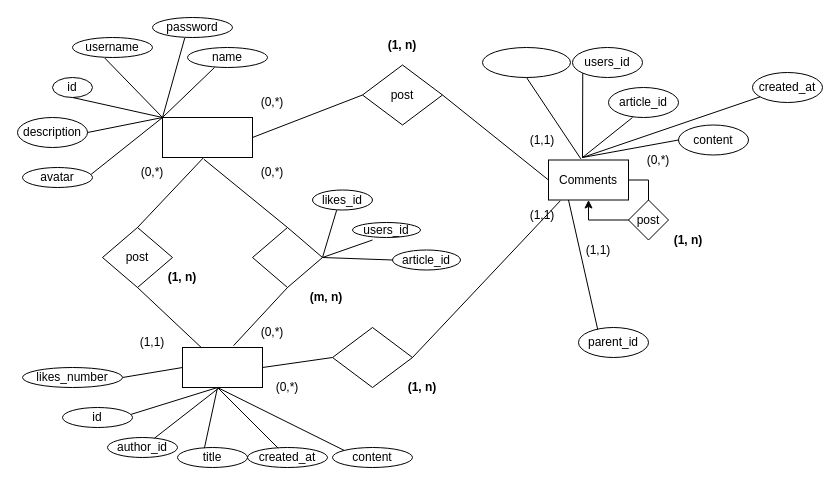
The diagram is 840 pixels wide and 485 high, and some of its shapes have lost their labels. Each missing label, with the centre of its shape:
"Articles" goes at pixel 222 367.
"belong" goes at pixel 372 357.
"comment_id" goes at pixel 526 62.
"Likes" goes at pixel 287 257.
"User accounts" goes at pixel 207 137.
